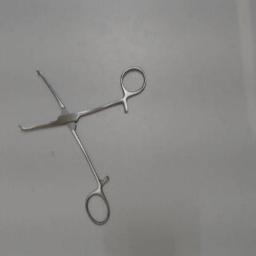Allis Tissue Forceps: (12, 60, 150, 230)
